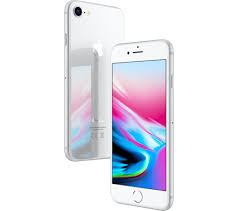iphone: (100, 37, 176, 211)
iphone8: (100, 37, 176, 211)
